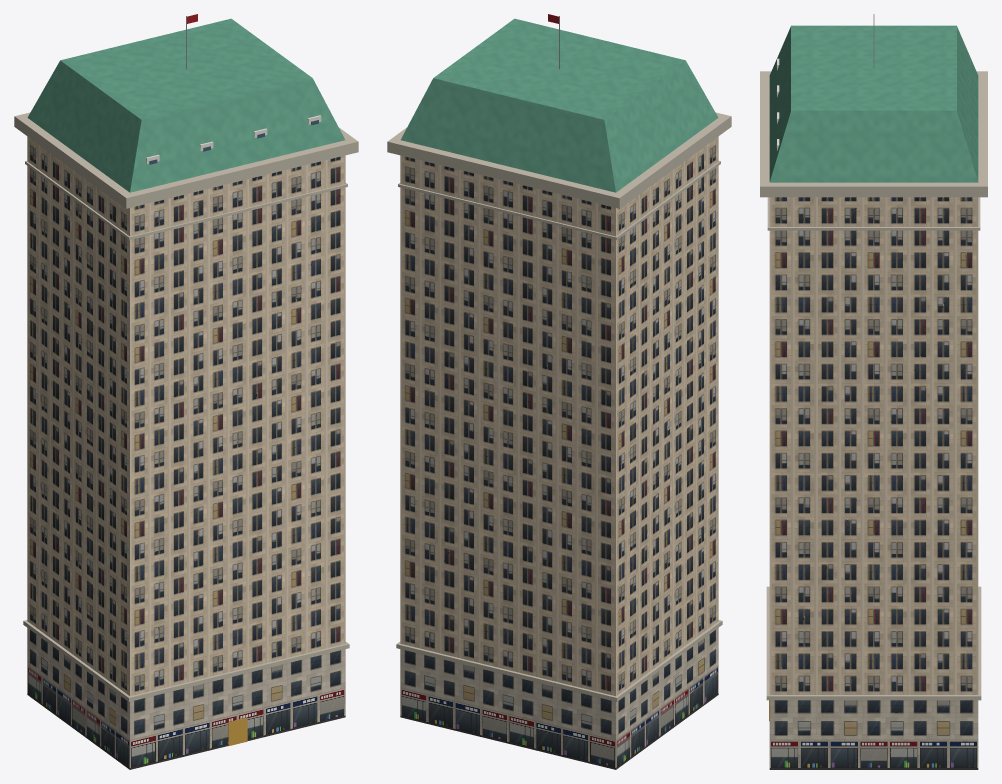
Rendered from 034_early_sky_mansard.glb.
3 renders of one model, left to right at view 1: azimuth 30°, elevation 25°; view 2: azimuth 150°, elevation 25°; view 3: azimuth 270°, elevation 25°, orthographic.
Parts seen in each view (by area): view 1: 034_early_sky_mansard; view 2: 034_early_sky_mansard; view 3: 034_early_sky_mansard.
Part boxes in pixels (x1=…): 034_early_sky_mansard: x1=14, y1=14, x2=358, y2=769; 034_early_sky_mansard: x1=387, y1=14, x2=731, y2=769; 034_early_sky_mansard: x1=760, y1=14, x2=987, y2=769.
Size of the model in its own units: 36.6 by 104 by 30.6.
Materials: 11 (5 with a texture image).
